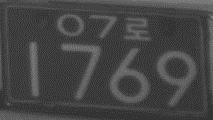0: (56, 12, 85, 37)
1: (18, 41, 51, 97)
6: (108, 47, 150, 105)
7: (59, 42, 101, 101), (89, 13, 117, 38)
9: (155, 48, 197, 107)
로: (122, 16, 150, 41)
